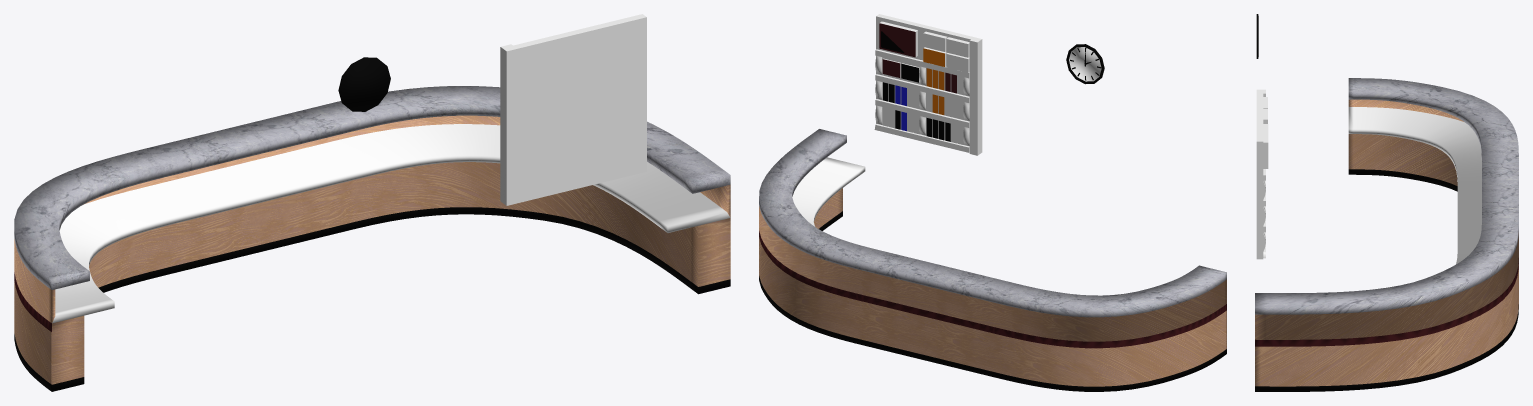
Rendered from nurse_station.dae.
3 renders of one model, left to right at view 1: azimuth 30°, elevation 25°; view 2: azimuth 150°, elevation 25°; view 3: azimuth 270°, elevation 25°, orthographic. The views are drawn at different scales.
Parts seen in each view (by area): view 1: Station, Station Board, Clock; view 2: Station, Station Board, Clock; view 3: Station, Station Board.
Part boxes in pixels (left/top/right/bottom): Station: left=14, top=86, right=730, bottom=391; Station Board: left=500, top=14, right=646, bottom=205; Clock: left=338, top=57, right=390, bottom=111; Station: left=759, top=129, right=1226, bottom=391; Station Board: left=874, top=14, right=982, bottom=155; Clock: left=1066, top=44, right=1104, bottom=84; Station: left=1255, top=78, right=1518, bottom=391; Station Board: left=1256, top=89, right=1268, bottom=259.
Size of the model in its own units: 5.8 by 2.82 by 2.84.
